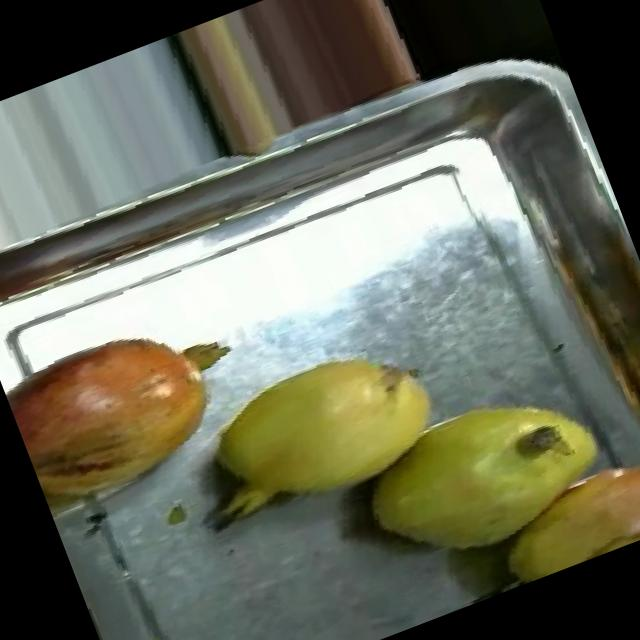fruit: (0, 294, 261, 523)
